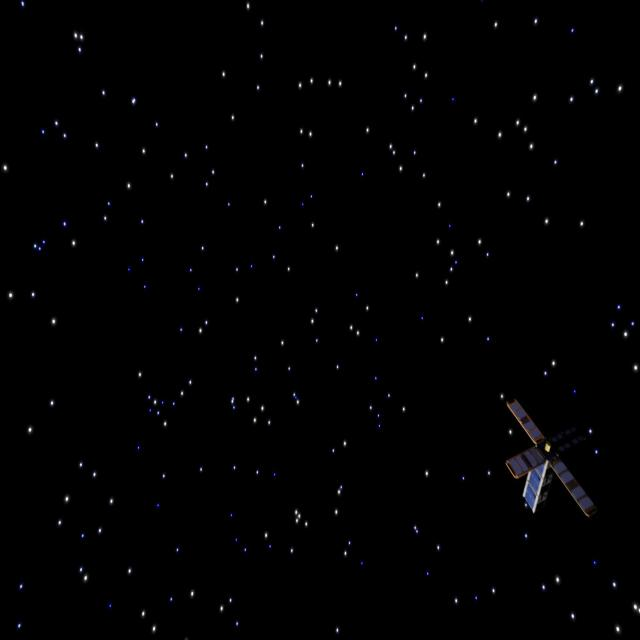satellite: (499, 393, 598, 522)
